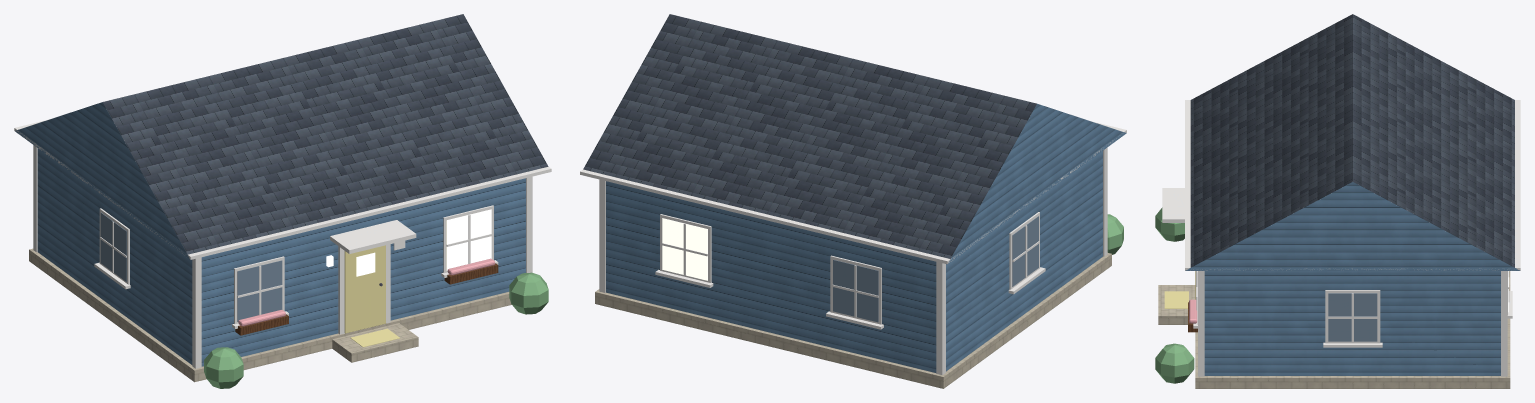
File: exterior.glb
3 renders of one model, left to right at view 1: azimuth 30°, elevation 25°; view 2: azimuth 150°, elevation 25°; view 3: azimuth 270°, elevation 25°, orthographic. The views are drawn at different scales.
Parts seen in each view (by area): view 1: House_house_02; view 2: House_house_02; view 3: House_house_02.
Part boxes in pixels (<box>): House_house_02: <box>14,14,551,388</box>; House_house_02: <box>580,14,1126,388</box>; House_house_02: <box>1155,14,1520,388</box>.
Size of the model in its own units: 9.7 by 5.75 by 8.93.
Materials: 7 (7 with a texture image).
